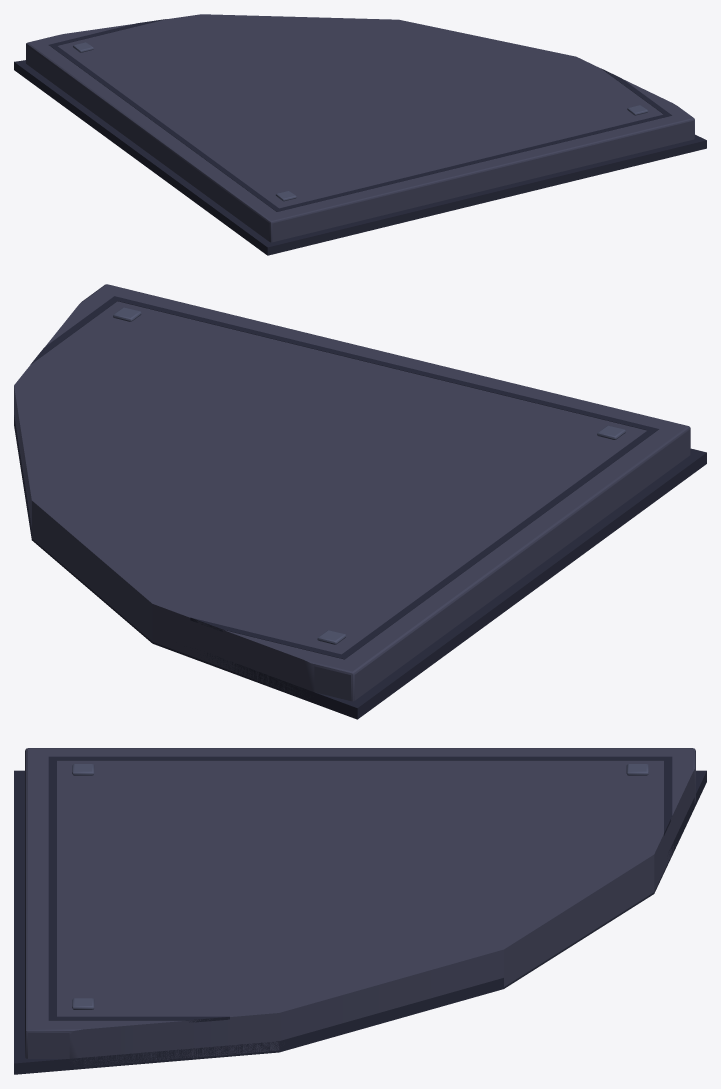
The model's file is floor.arc1.plate.glb.
3 renders of one model, top to bottom at view 1: azimuth 30°, elevation 25°; view 2: azimuth 150°, elevation 25°; view 3: azimuth 270°, elevation 25°, orthographic. The views are drawn at different scales.
Parts seen in each view (by area): view 1: GEO-floor.arc1.plate; view 2: GEO-floor.arc1.plate; view 3: GEO-floor.arc1.plate.
Boxes of the visible parts, <box> form: GEO-floor.arc1.plate: <box>14,14,706,255</box>; GEO-floor.arc1.plate: <box>14,284,706,719</box>; GEO-floor.arc1.plate: <box>14,748,706,1074</box>.
Bounding box in the file's own units: 1 × 0.069 × 1.
